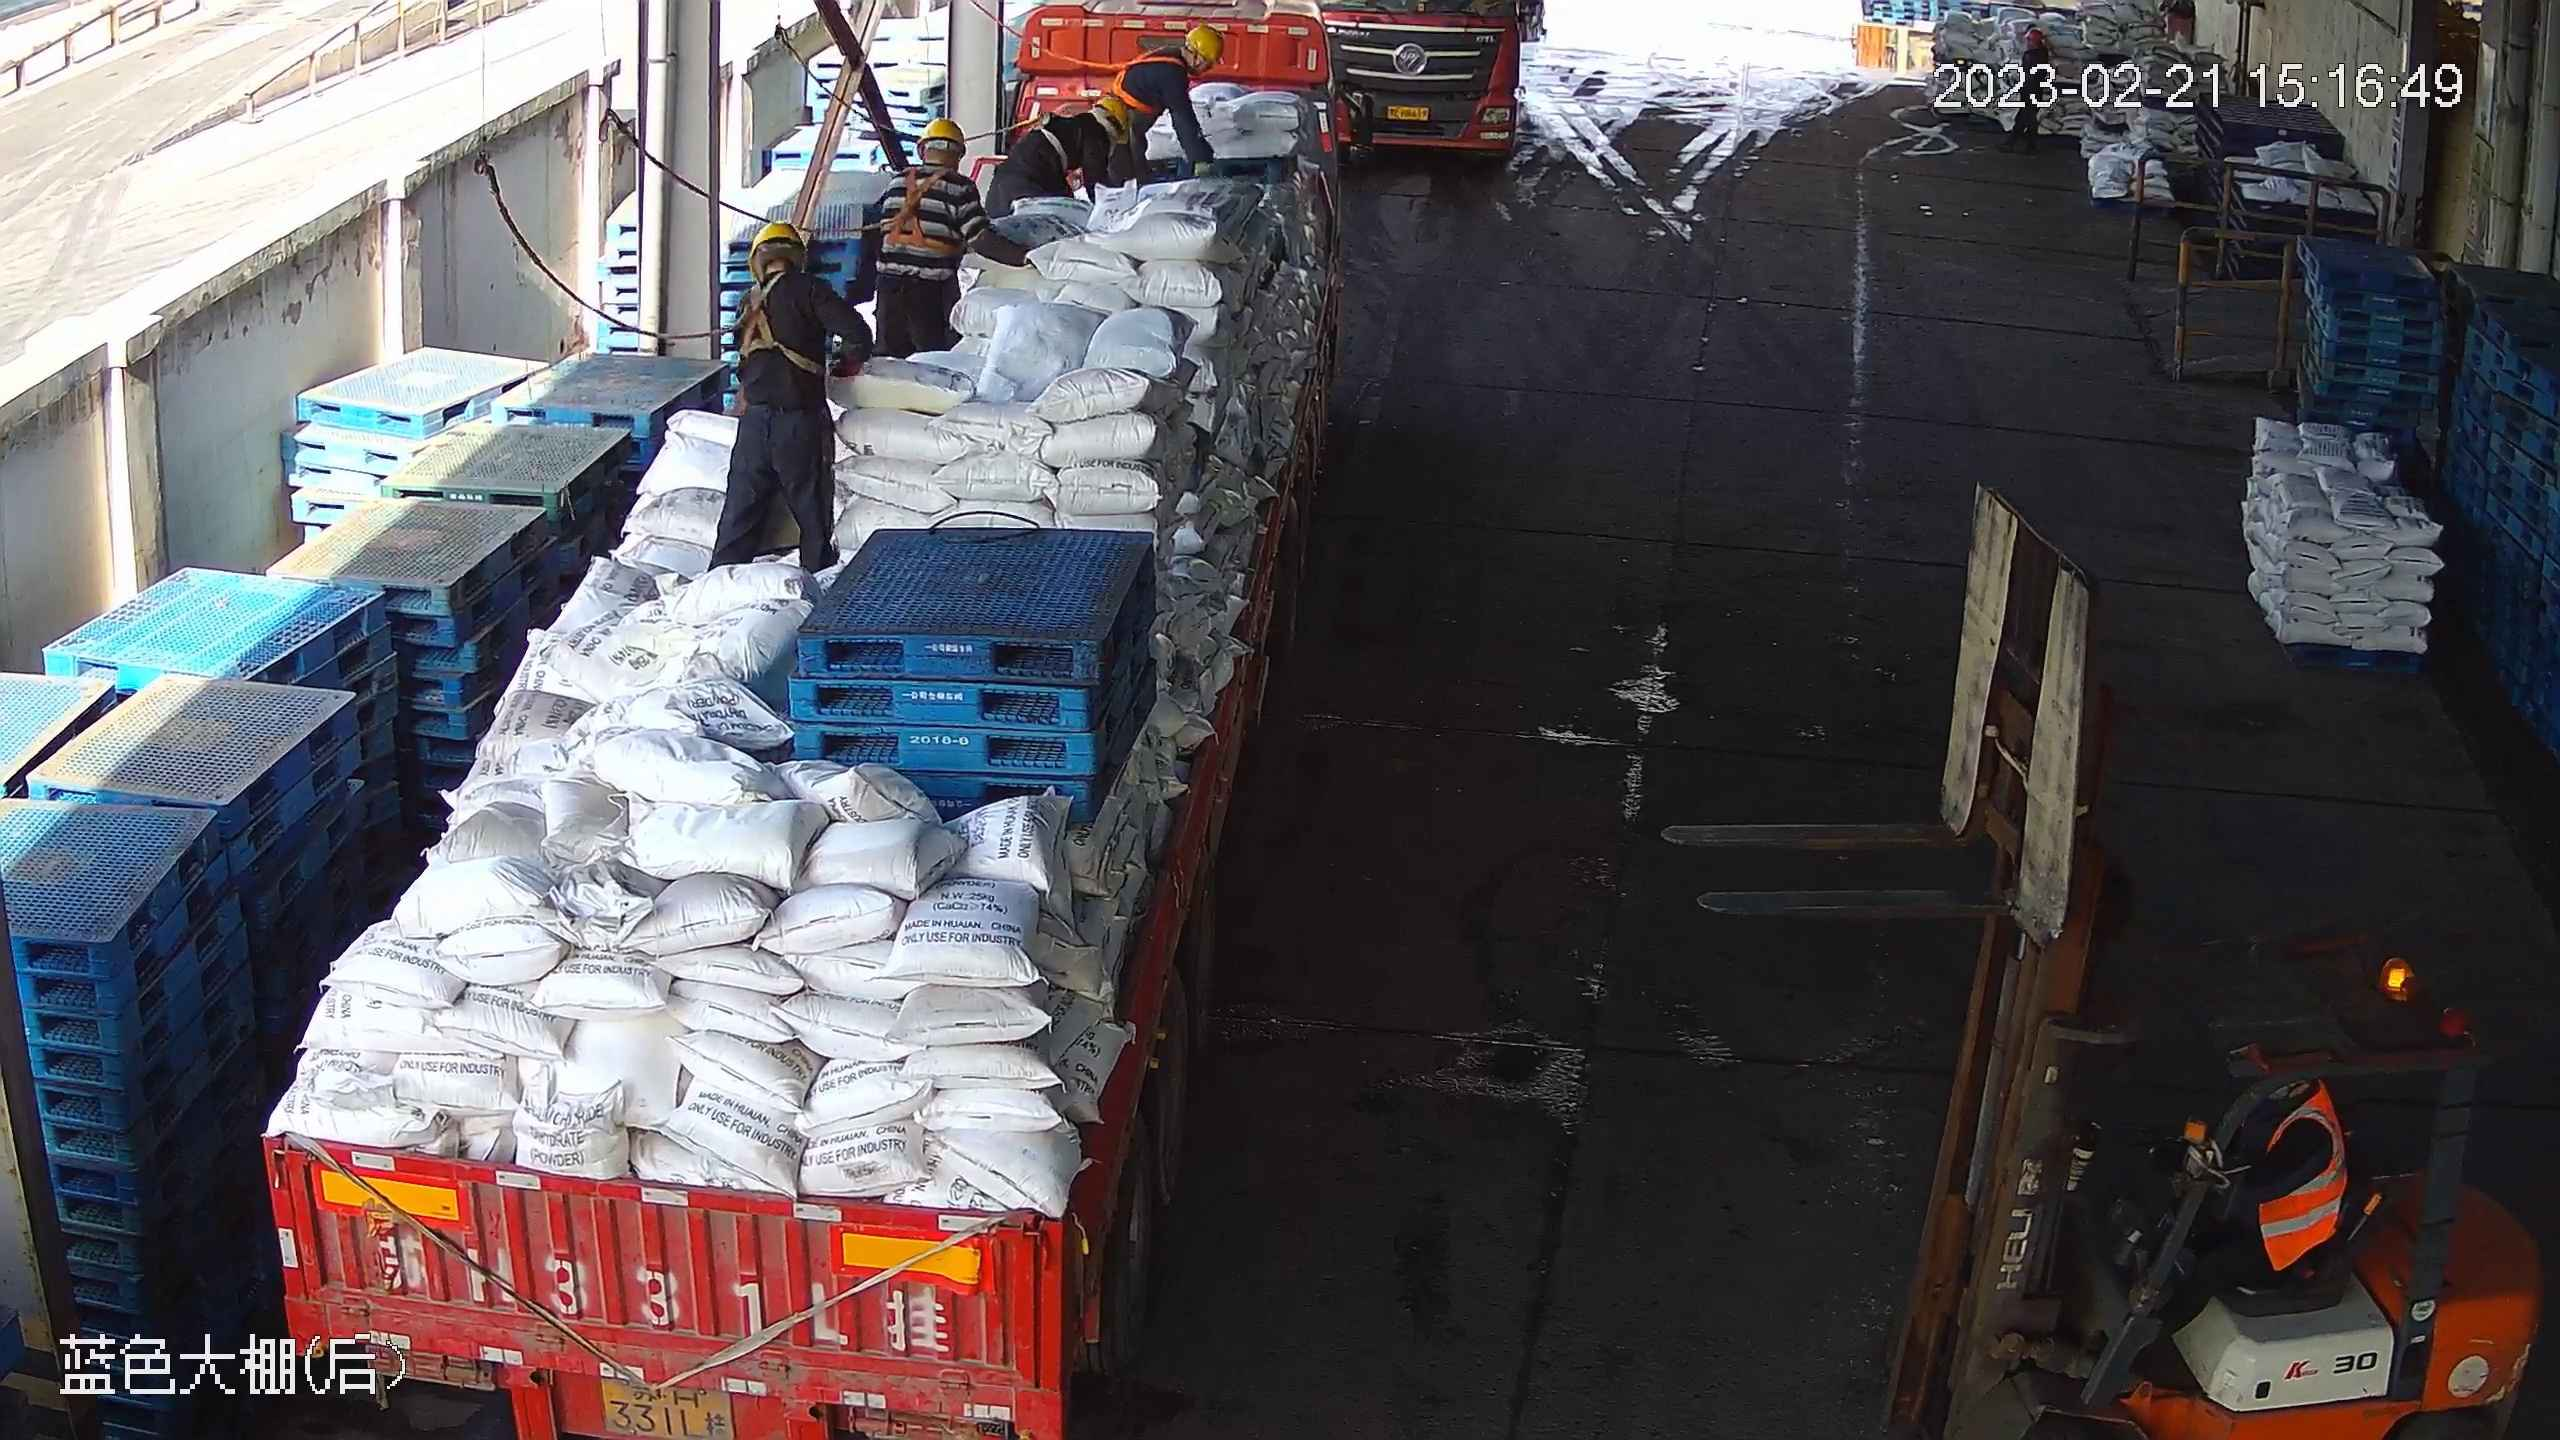belt: (731, 277, 805, 375), (881, 164, 949, 253), (1109, 47, 1188, 103), (1033, 114, 1079, 160)
head: (2220, 1064, 2364, 1207), (723, 218, 853, 344), (875, 118, 994, 223), (1137, 16, 1229, 116), (1042, 92, 1127, 164)
helmet: (742, 208, 823, 266), (922, 112, 977, 158), (1096, 82, 1140, 138), (1183, 18, 1225, 71)
people: (2140, 1051, 2350, 1361), (709, 218, 875, 564), (871, 117, 999, 347)
truck: (244, 8, 1331, 1440), (1333, 1, 1544, 162)
